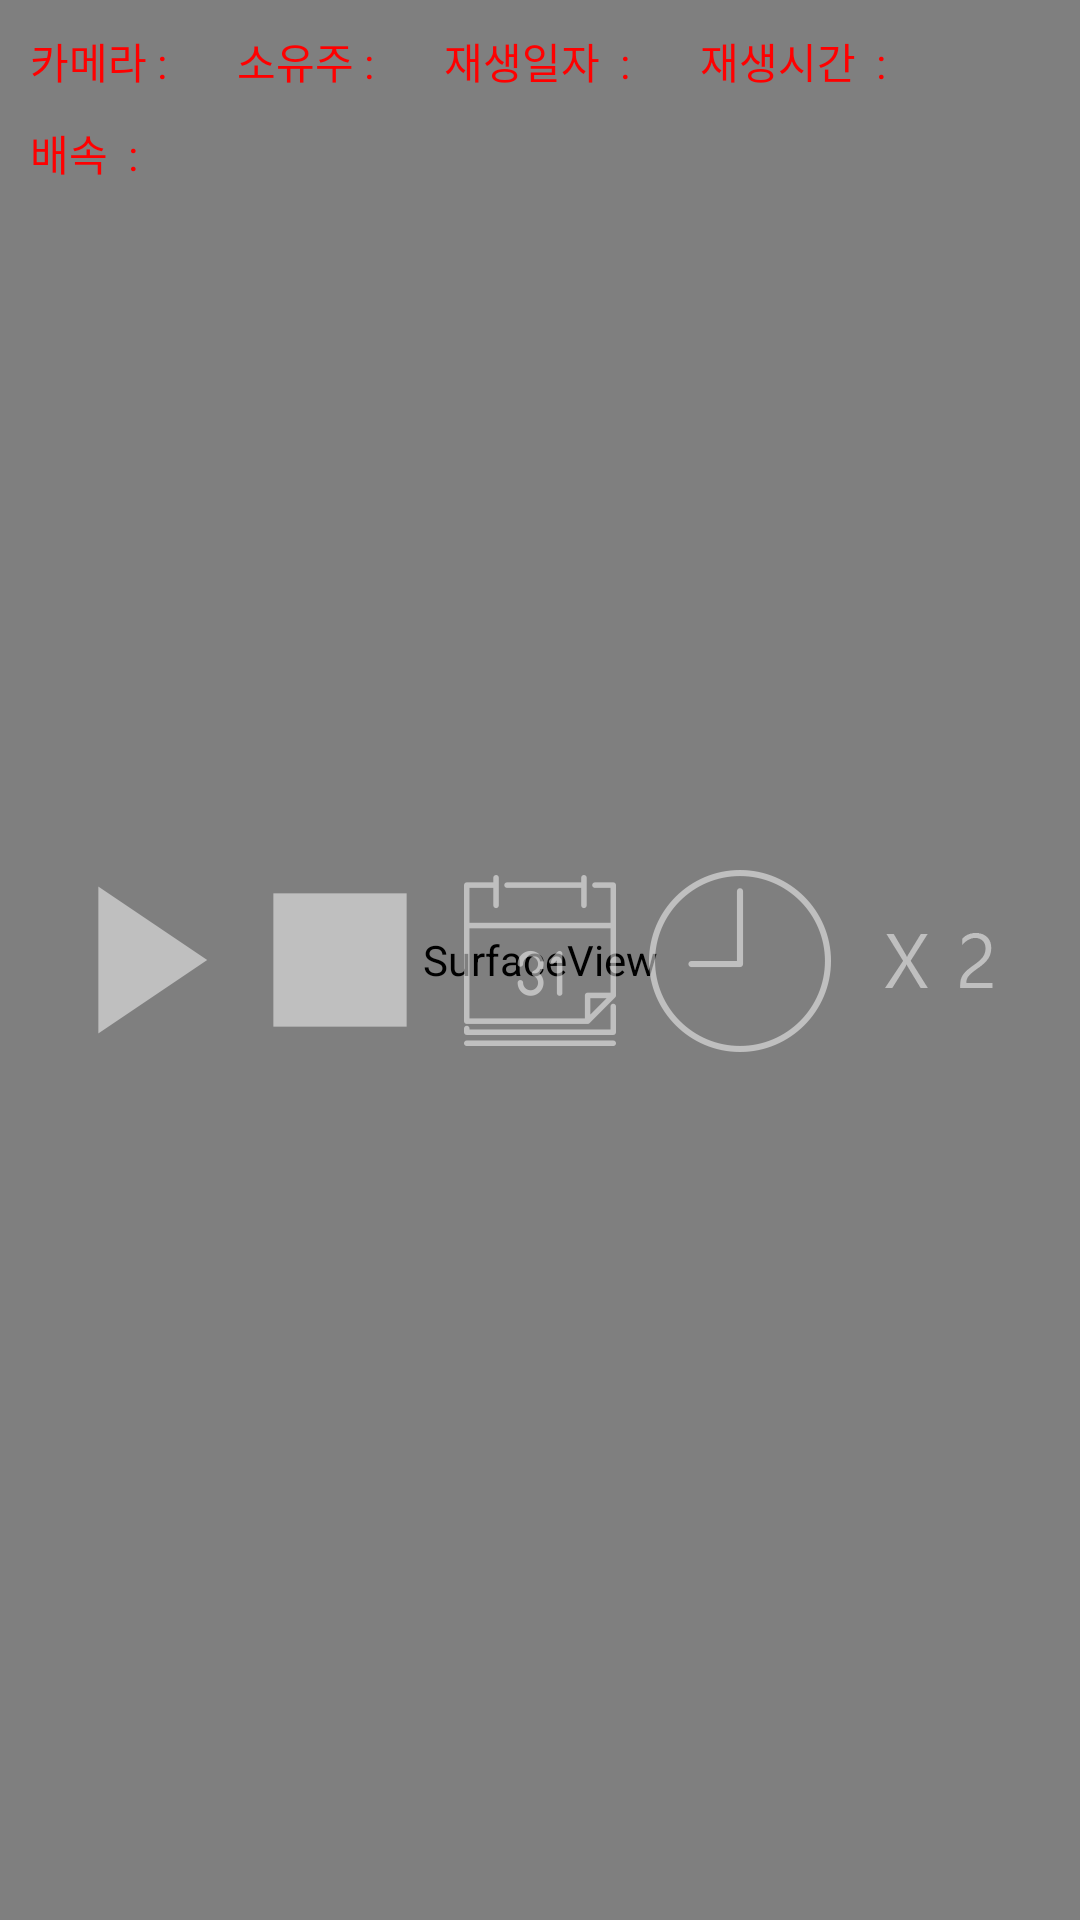

Point at icon controls on the screen. Image size 1080px x 1920px, points as (x=x, y=y).
select play: (x=152, y=960)
select timer: (x=735, y=961)
